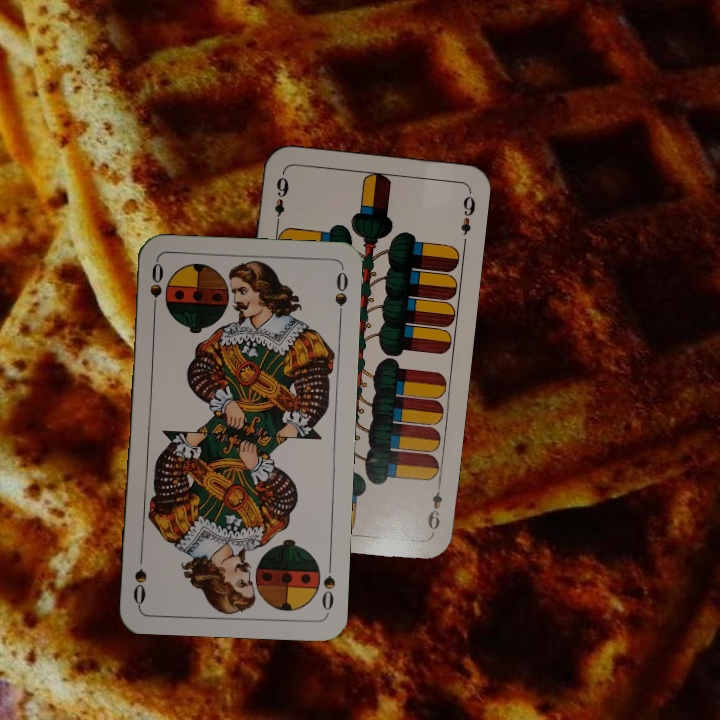E9: (270, 169, 291, 228), (424, 478, 445, 537)
SO: (146, 259, 166, 318), (318, 556, 338, 615)
